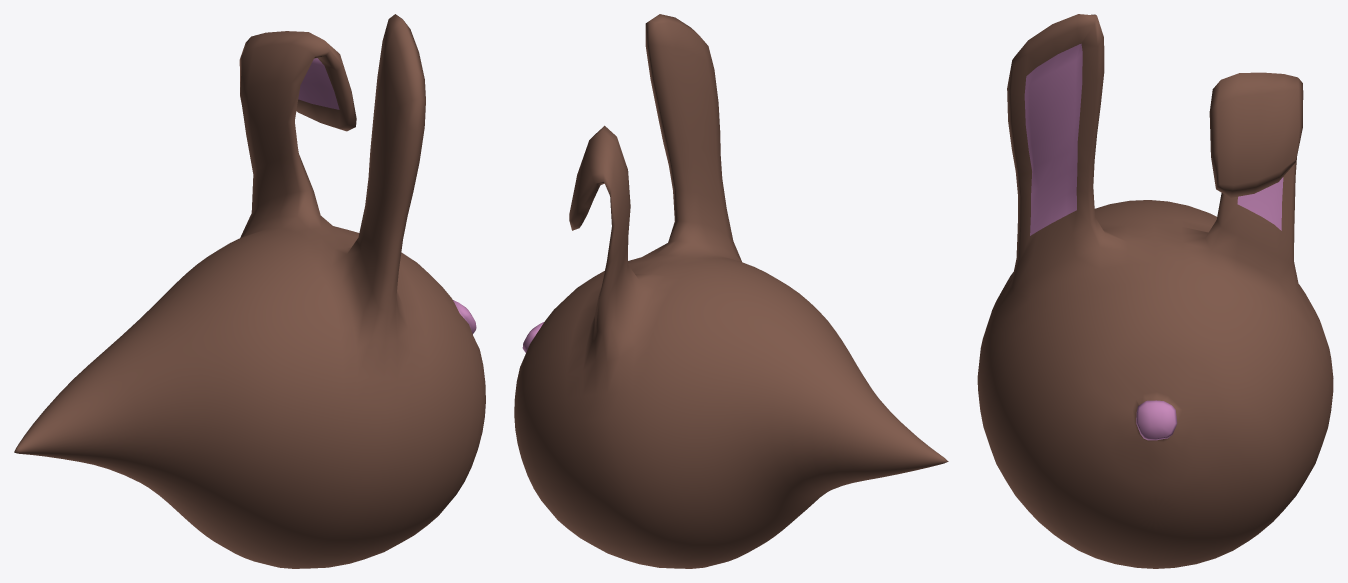
The model's file is RabbitEnemy.fbx.
The picture shows the model from 3 angles, left to right: view 1: azimuth 30°, elevation 25°; view 2: azimuth 150°, elevation 25°; view 3: azimuth 270°, elevation 25°; orthographic projection. The views are drawn at different scales.
Parts seen in each view (by area): view 1: RabbitEnemy; view 2: RabbitEnemy; view 3: RabbitEnemy.
Boxes of the visible parts, x1,y1,x2,y2 form: RabbitEnemy: [14, 14, 485, 568]; RabbitEnemy: [514, 14, 948, 568]; RabbitEnemy: [977, 14, 1333, 568].
Bounding box in the file's own units: 298 × 340 × 195.
